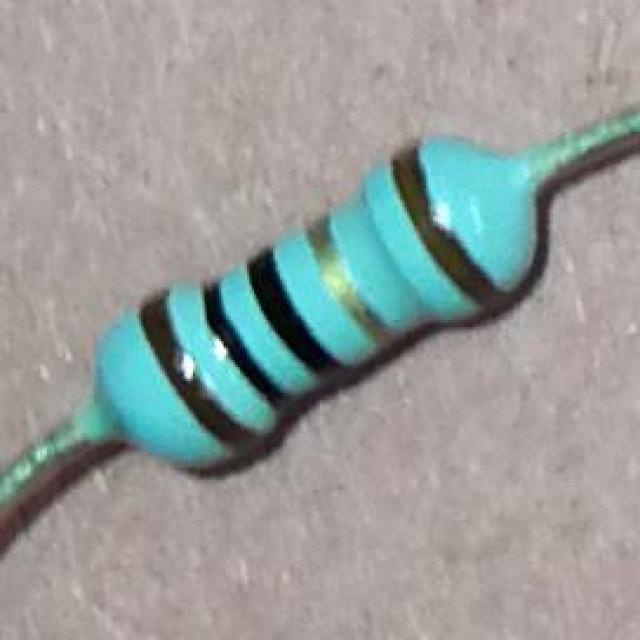Resistor: (0, 113, 640, 543)
